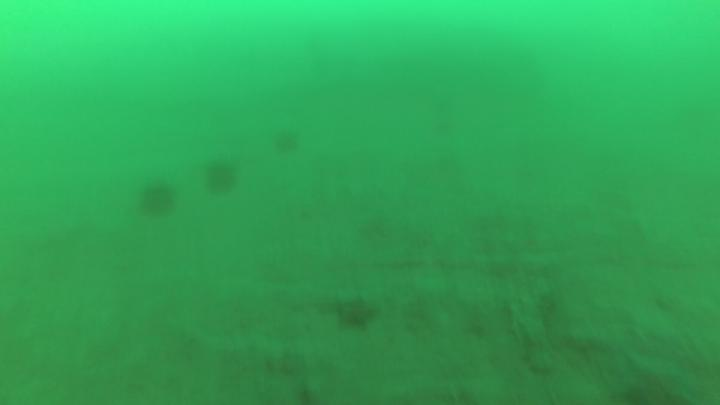echinus: (132, 178, 183, 221), (200, 158, 242, 200), (271, 128, 303, 155)
starfish: (334, 294, 383, 338)
